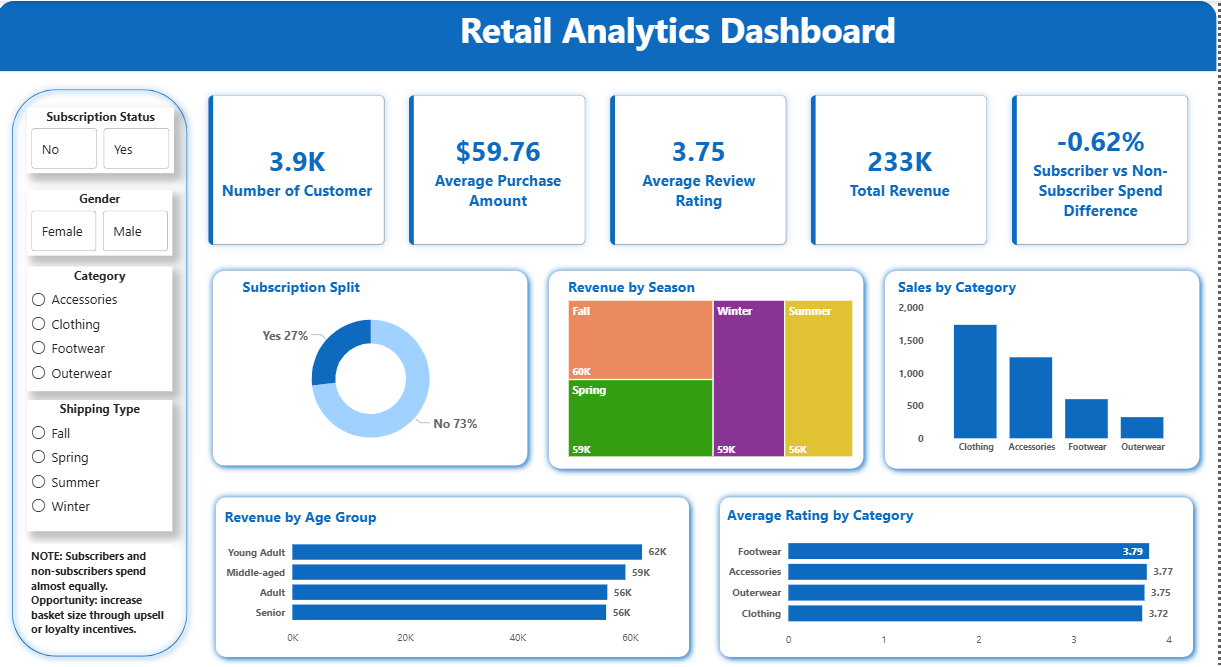

What the dashboard file says about the page in this screenshot:
{"tool":"powerbi","page":{"name":"Retail Insights","canvas":[1500,820],"ordinal":0},"visuals":[{"type":"shape","box":[1082.8,322.3,404.8,261.4],"z":0},{"type":"shape","box":[669.1,322.3,404.8,261.4],"z":1000},{"type":"shape","box":[0,0,1499.4,86.5],"z":2000},{"type":"textbox","box":[434.3,0,807.6,86.5],"z":3000},{"type":"cardVisual","title":"dcsdcs","fields":{"Data":["customer.No of Customer","customer.Average Purchase Amount","customer.Average Review Rating","customer.Total Revenue","customer.Subscriber Premium %"]},"box":[243.7,100.2,1241.9,216.2],"z":4000},{"type":"shape","box":[255.5,322.3,404.8,257.4],"z":5000},{"type":"donutChart","title":"Subscription Split","fields":{"Category":["customer.subscription_status"],"Y":["Sum(customer.purchase_amount)"]},"box":[296.7,340,324.2,226],"z":6000},{"type":"clusteredColumnChart","title":"Sales by Category","fields":{"Y":["CountNonNull(customer.customer_id)"],"Category":["customer.category"]},"box":[1102.4,340,365.5,226],"z":7000},{"type":"shape","box":[259.4,601.3,600,214.2],"z":8000},{"type":"shape","box":[880.4,601.3,600,214.2],"z":9000},{"type":"clusteredBarChart","title":"Revenue by Age Group","fields":{"Category":["customer.age_group"],"Y":["Sum(customer.purchase_amount)"]},"box":[275.1,621,564,178.8],"z":10000},{"type":"clusteredBarChart","title":"Average Rating by Category","fields":{"Y":["customer.Avg Rating"],"Category":["customer.category"]},"box":[892.1,619,564,182.8],"z":11000},{"type":"shape","box":[9.8,100.2,233.8,715.3],"z":12000},{"type":"treemap","title":"Revenue by Season","fields":{"Group":["customer.season"],"Values":["customer.Total Revenue"]},"box":[697.8,340,359.6,226],"z":13000},{"type":"advancedSlicerVisual","title":"Subscription Status","fields":{"Values":["customer.subscription_status"]},"box":[36.7,131.7,180.8,80.6],"z":14000},{"type":"advancedSlicerVisual","title":"Gender","fields":{"Values":["customer.gender"]},"box":[36.7,231.9,178.8,80.6],"z":15000},{"type":"listSlicer","title":"Category","fields":{"Values":["customer.category"]},"box":[37.3,326.2,178.8,153.3],"z":16000},{"type":"listSlicer","title":"Shipping Type","fields":{"Values":["customer.season"]},"box":[37.3,491.3,178.8,161.1],"z":17000},{"type":"textbox","box":[37.3,668.1,178.8,117.9],"z":17001}]}

Visuals, with their boxes in screenshot pixels (x1, y1, x2, y2), scaled from the page's 1500x820 canvas onto the 1221x667 screenshot:
shape: bbox=(881, 262, 1211, 475)
shape: bbox=(545, 262, 874, 475)
shape: bbox=(0, 0, 1220, 70)
textbox: bbox=(354, 0, 1011, 70)
"dcsdcs" cardVisual: bbox=(198, 82, 1209, 257)
shape: bbox=(208, 262, 537, 472)
"Subscription Split" donutChart: bbox=(242, 277, 505, 460)
"Sales by Category" clusteredColumnChart: bbox=(897, 277, 1195, 460)
shape: bbox=(211, 489, 700, 663)
shape: bbox=(717, 489, 1205, 663)
"Revenue by Age Group" clusteredBarChart: bbox=(224, 505, 683, 651)
"Average Rating by Category" clusteredBarChart: bbox=(726, 504, 1185, 652)
shape: bbox=(8, 82, 198, 663)
"Revenue by Season" treemap: bbox=(568, 277, 861, 460)
"Subscription Status" advancedSlicerVisual: bbox=(30, 107, 177, 173)
"Gender" advancedSlicerVisual: bbox=(30, 189, 175, 254)
"Category" listSlicer: bbox=(30, 265, 176, 390)
"Shipping Type" listSlicer: bbox=(30, 400, 176, 531)
textbox: bbox=(30, 543, 176, 639)
